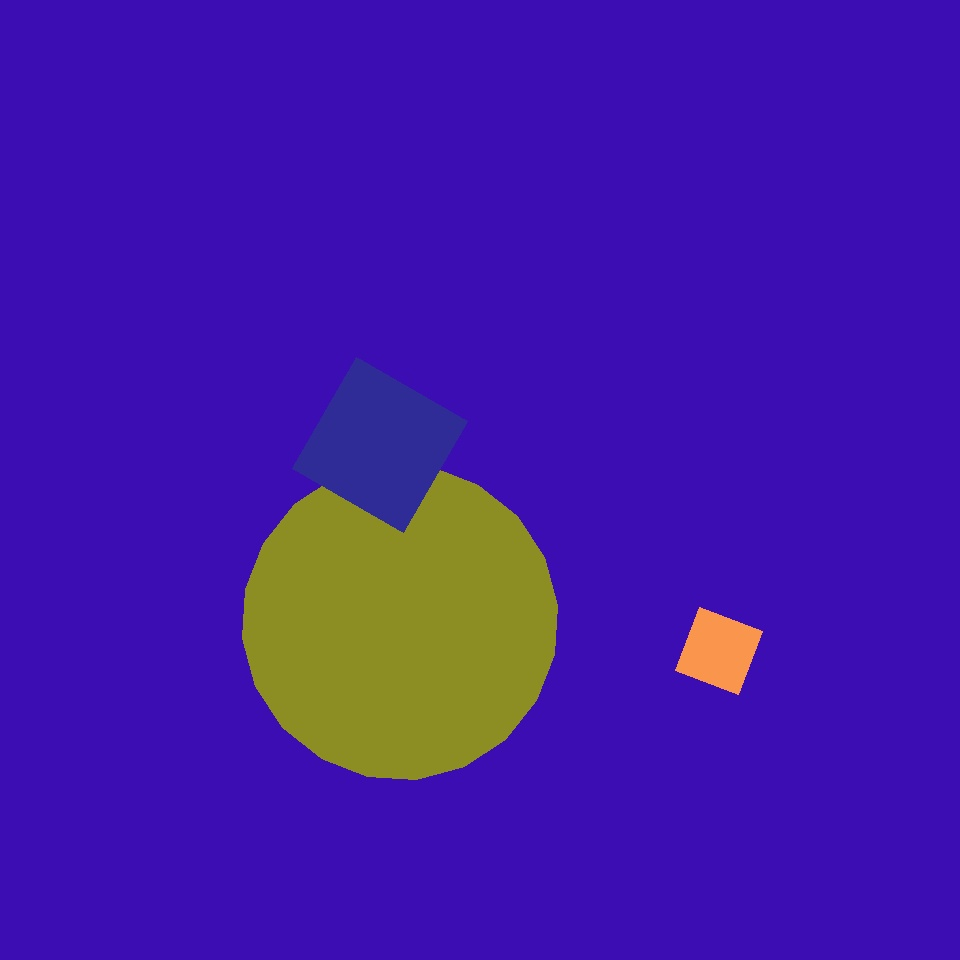square: (220, 352, 521, 654), (527, 684, 756, 913), (292, 358, 467, 532), (676, 608, 762, 694)
triangle: (47, 34, 406, 393), (243, 464, 558, 780)
